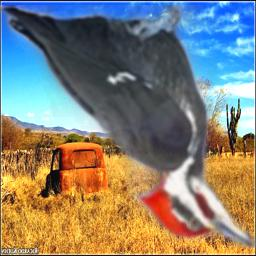Woodpecker: (0, 5, 256, 248)
